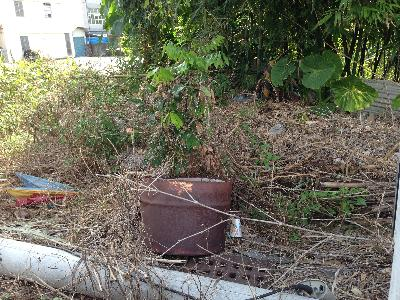bucket: (138, 175, 235, 257)
